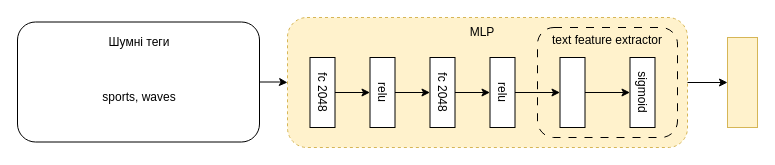
The diagram is 775 pixels wide and 165 high, and some of its shapes have lost their labels. Here are the shapes that lost their labels. From the top down, the centre of each, then its label:
At point 572,92: "fc 81".
At point 742,82: "text features".
